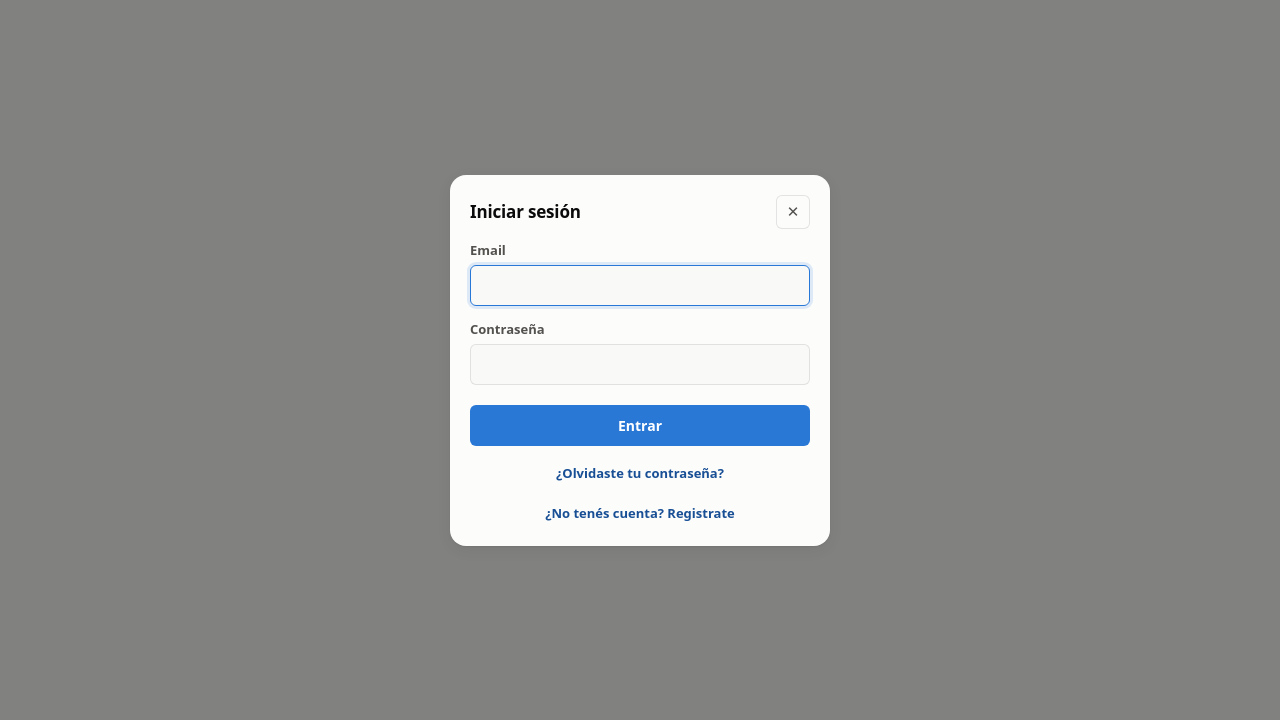
it: AuthModal › cambia a registro y muestra el campo de nombre
Click the button "¿No tenés cuenta? Registrate".
click(640, 512)  # box [541, 500, 739, 526]
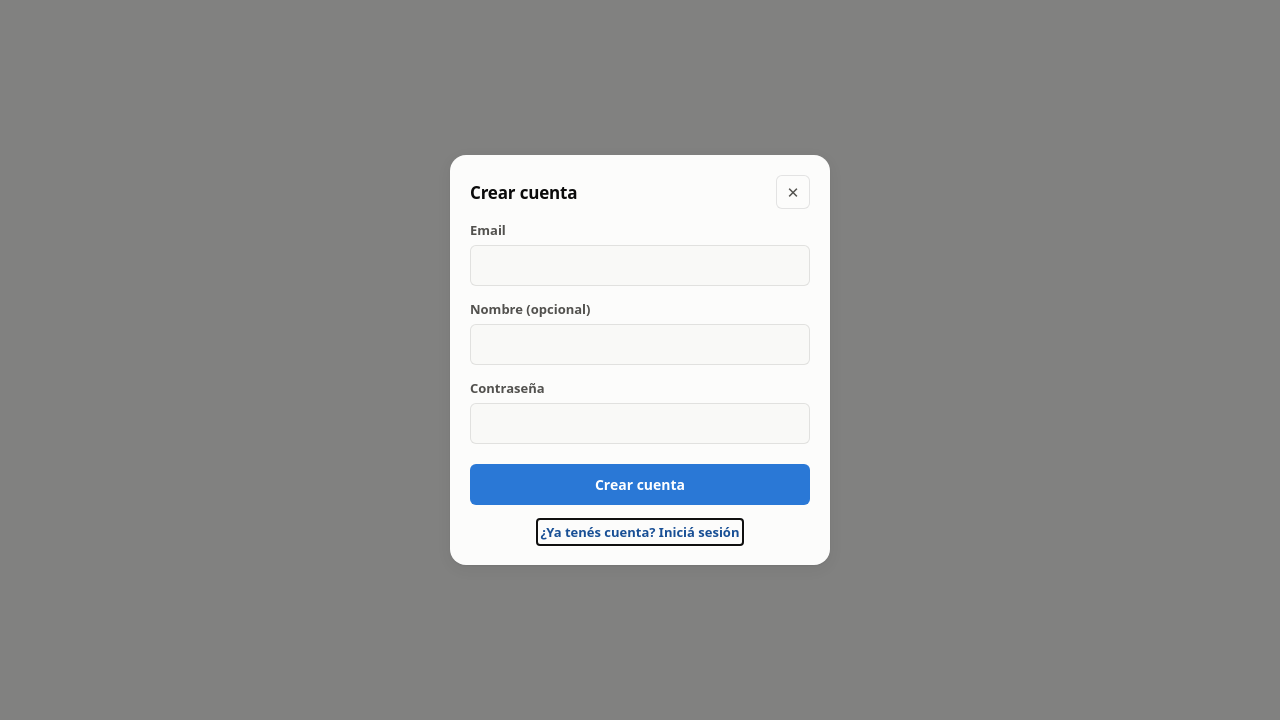
Expected: the heading "Crear cuenta" is shown, [470, 180, 577, 204]
Expected: the field labelled "Nombre (opcional)" is shown, [470, 324, 810, 365]
